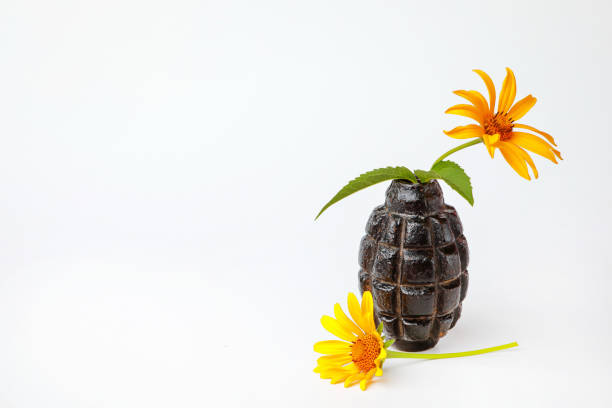e1: (354, 177, 472, 353)
